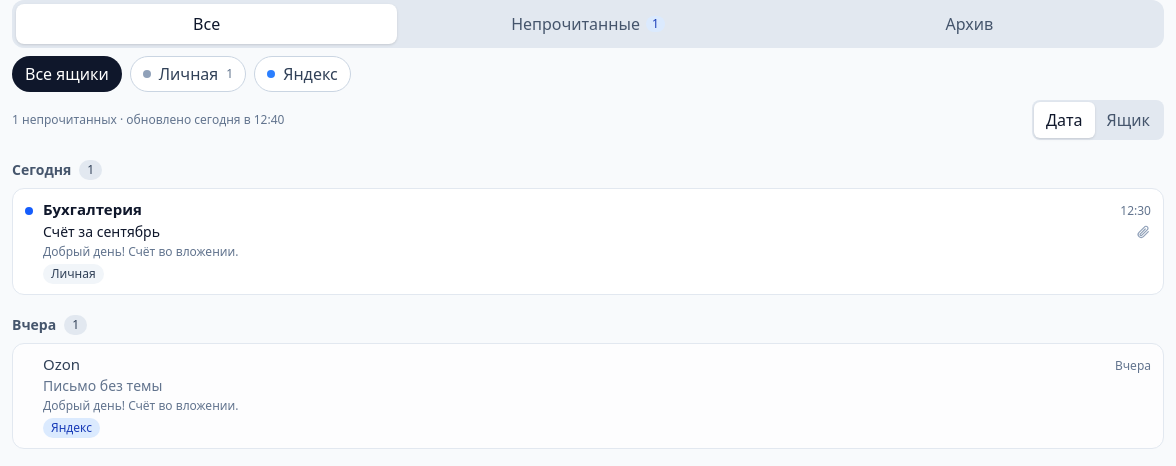
Scenario: экран «Почта» › фильтр «Непрочитанные» и счётчик показывают одно и то же число
The image size is (1176, 466).
Click the tab "Непрочитанные 1".
click(588, 24)  # box [397,4,779,44]
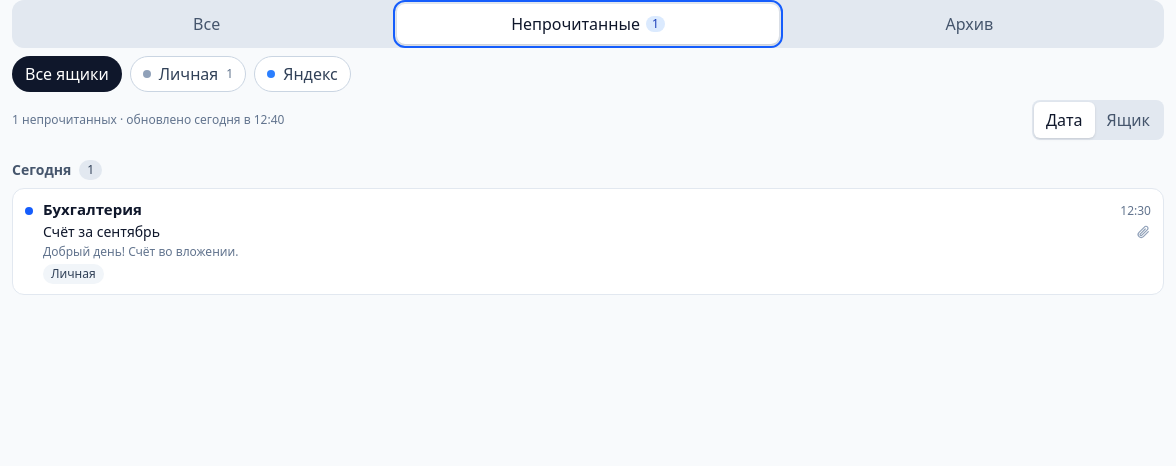
Check: the text "Счёт за сентябрь" is shown, box [43,222,160,241]
Check: the button "Письмо без темы" is gone
